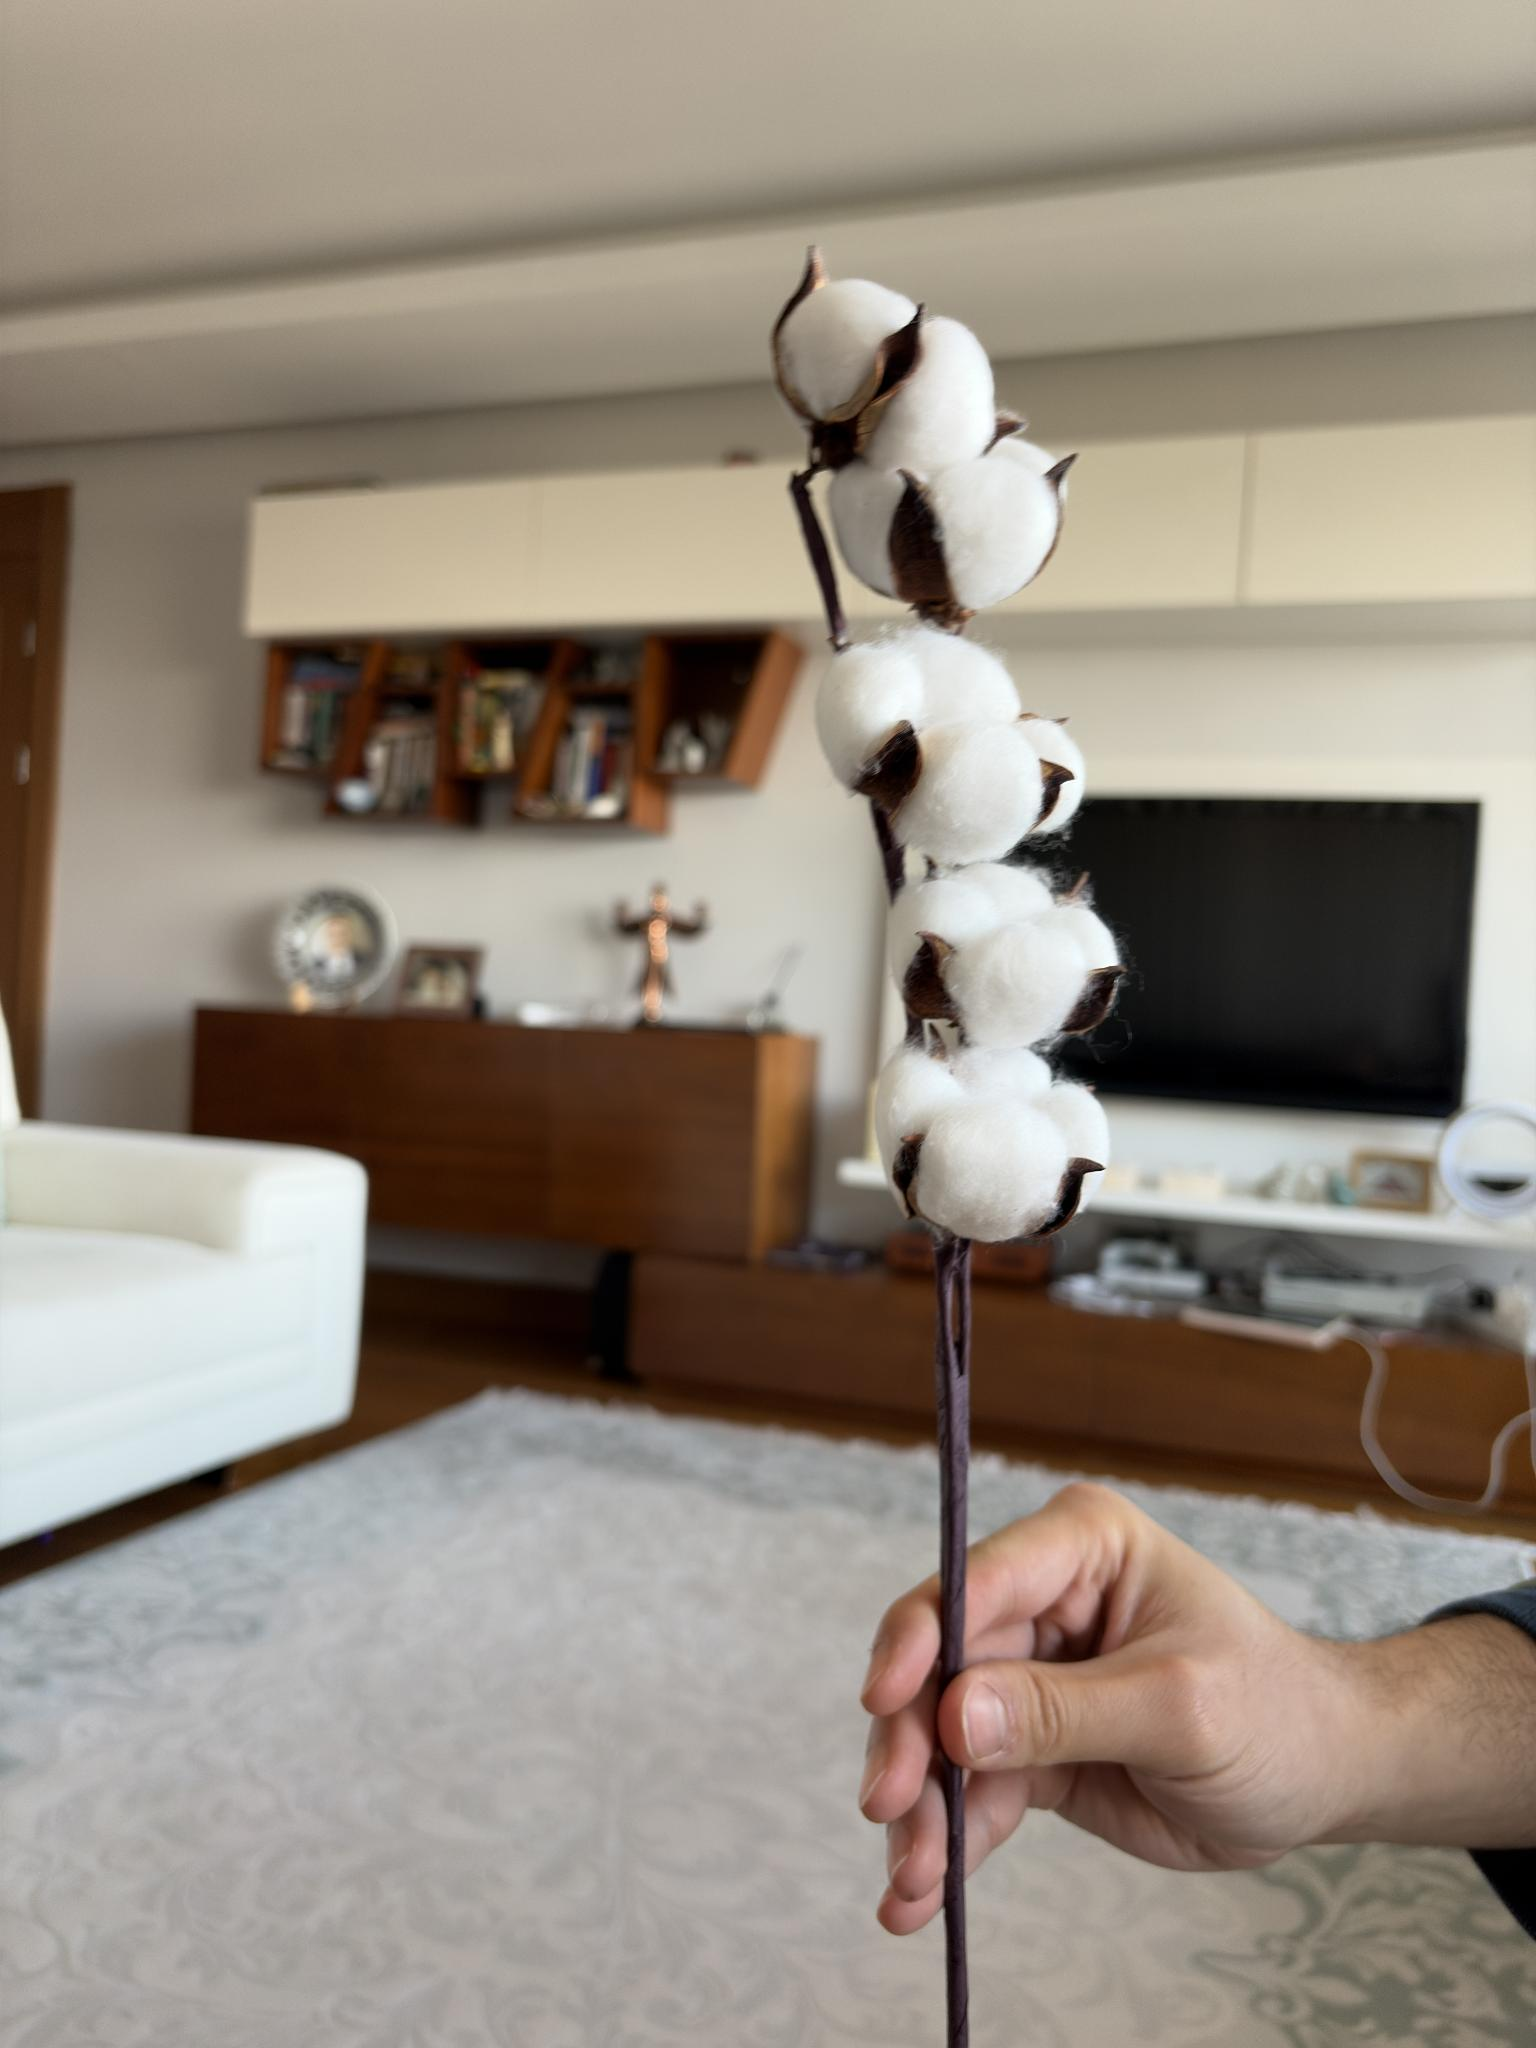cotton_boll: (928, 440, 1075, 610), (908, 1100, 1079, 1242), (894, 719, 1050, 864), (866, 314, 997, 479), (941, 913, 1094, 1050), (774, 281, 915, 421), (815, 639, 926, 789), (894, 626, 1023, 732), (887, 876, 1000, 987), (874, 1043, 962, 1169), (828, 461, 905, 597), (1023, 718, 1086, 832), (937, 863, 1054, 922), (1041, 1082, 1110, 1169), (955, 1047, 1052, 1103), (1055, 906, 1118, 969)
cotton_boll-cluster: (760, 247, 1102, 622), (813, 606, 1091, 866), (873, 1032, 1120, 1245), (884, 847, 1134, 1043)
